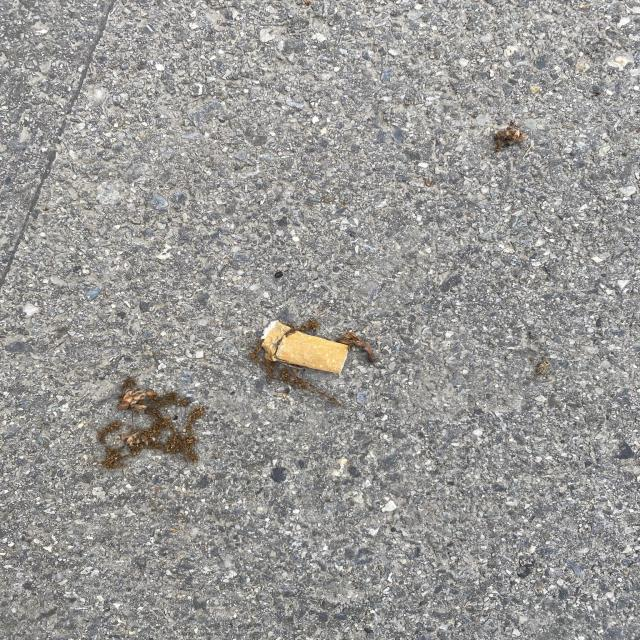other waste: (260, 319, 348, 375)
